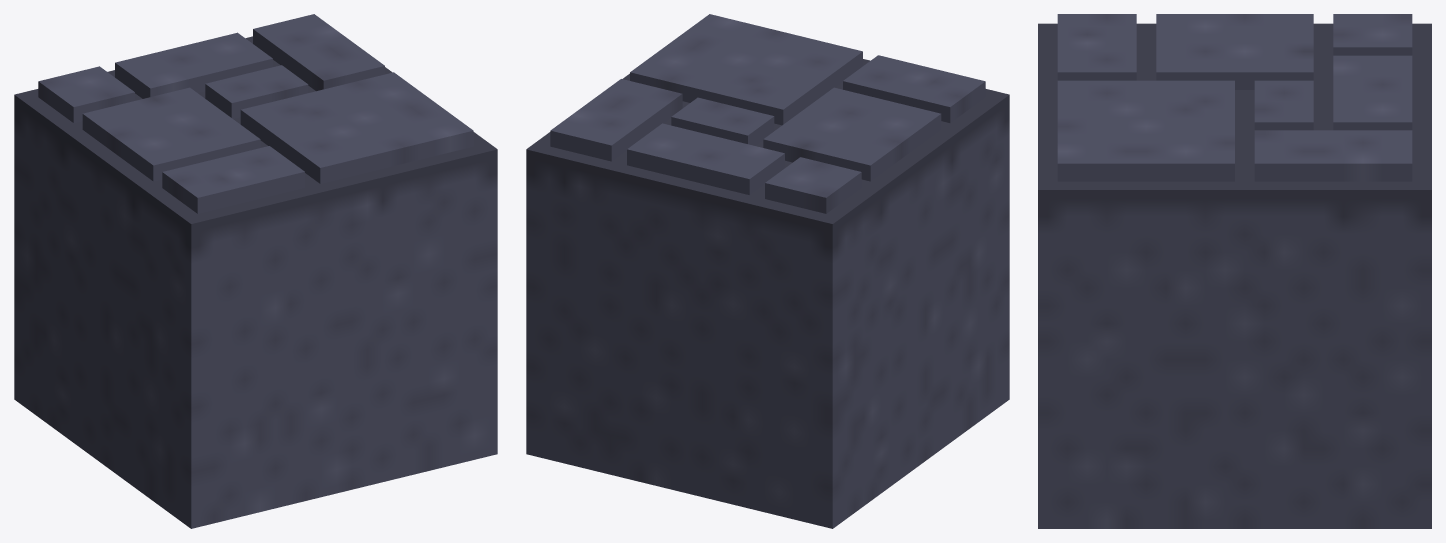
The model's file is Graveyard_floor.dae.
The picture shows the model from 3 angles, left to right: view 1: azimuth 30°, elevation 25°; view 2: azimuth 150°, elevation 25°; view 3: azimuth 270°, elevation 25°; orthographic projection. The views are drawn at different scales.
Parts seen in each view (by area): view 1: Graveyard_floor; view 2: Graveyard_floor; view 3: Graveyard_floor.
Boxes of the visible parts, <box> form: Graveyard_floor: <box>14,14,497,528</box>; Graveyard_floor: <box>526,14,1009,528</box>; Graveyard_floor: <box>1038,14,1431,528</box>.
Bounding box in the file's own units: 20 × 20 × 20.
Materials: 1 (1 with a texture image).
